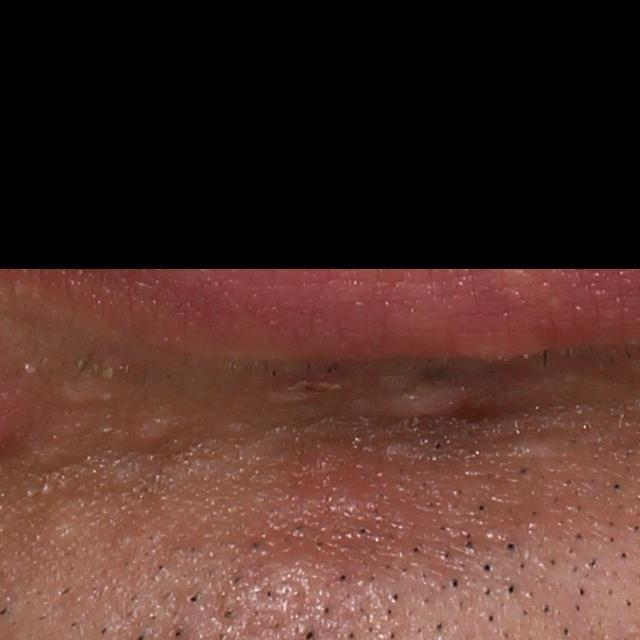hypertrophic_scar: (127, 403, 245, 448), (373, 383, 470, 423), (57, 363, 150, 400), (508, 432, 586, 461)
